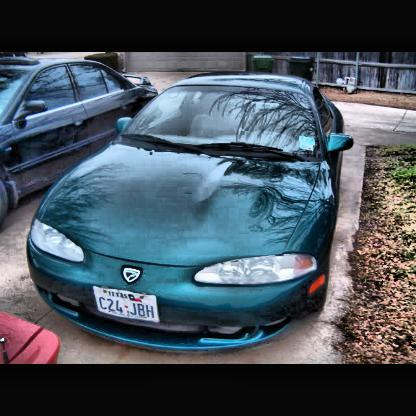Eagle Talon Hatchback 1998: (30, 77, 357, 353)
